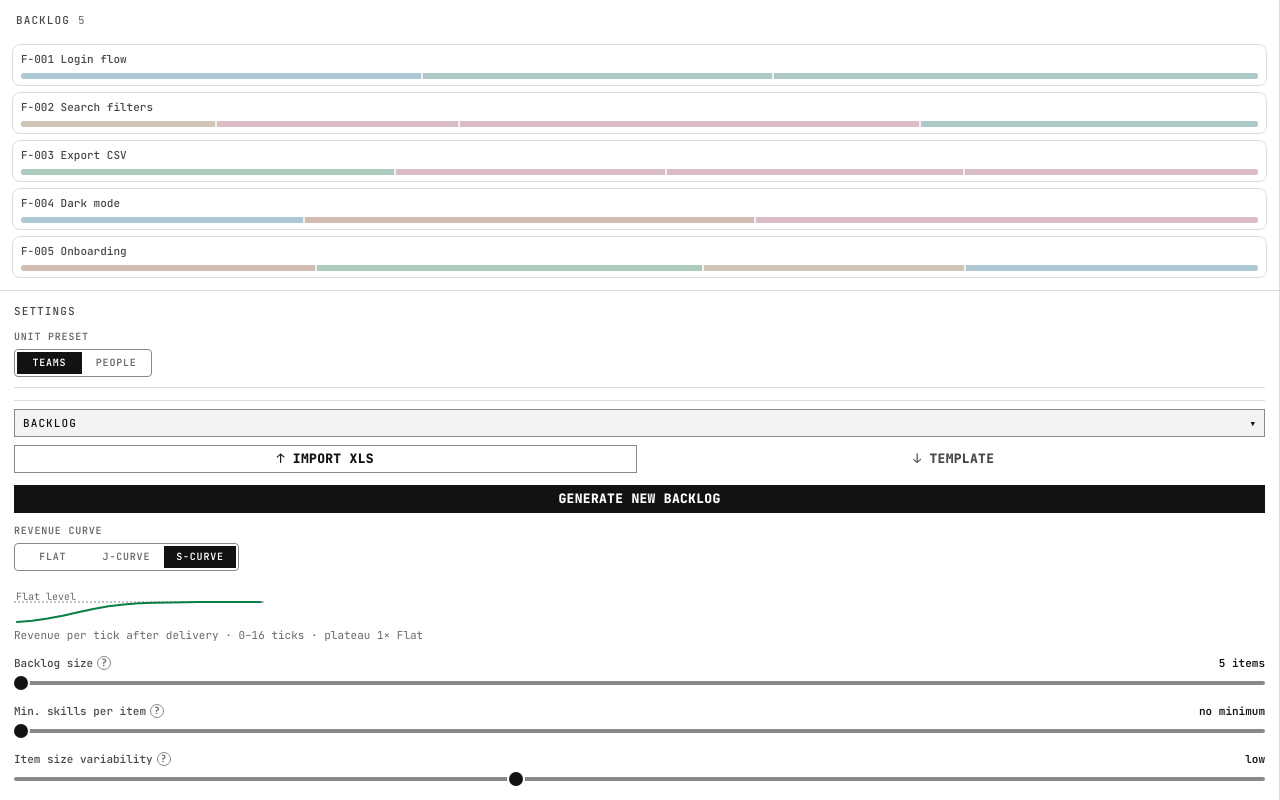
Test case: feat-017: přepínač „Revenue curve“ v BacklogSettingsPanel › hover hint zvoleného profilu „s-curve“ popisuje jeho tvar
Step 1. Hover over the button "Flat" → (53, 557), box left=17, top=546, right=89, bottom=568
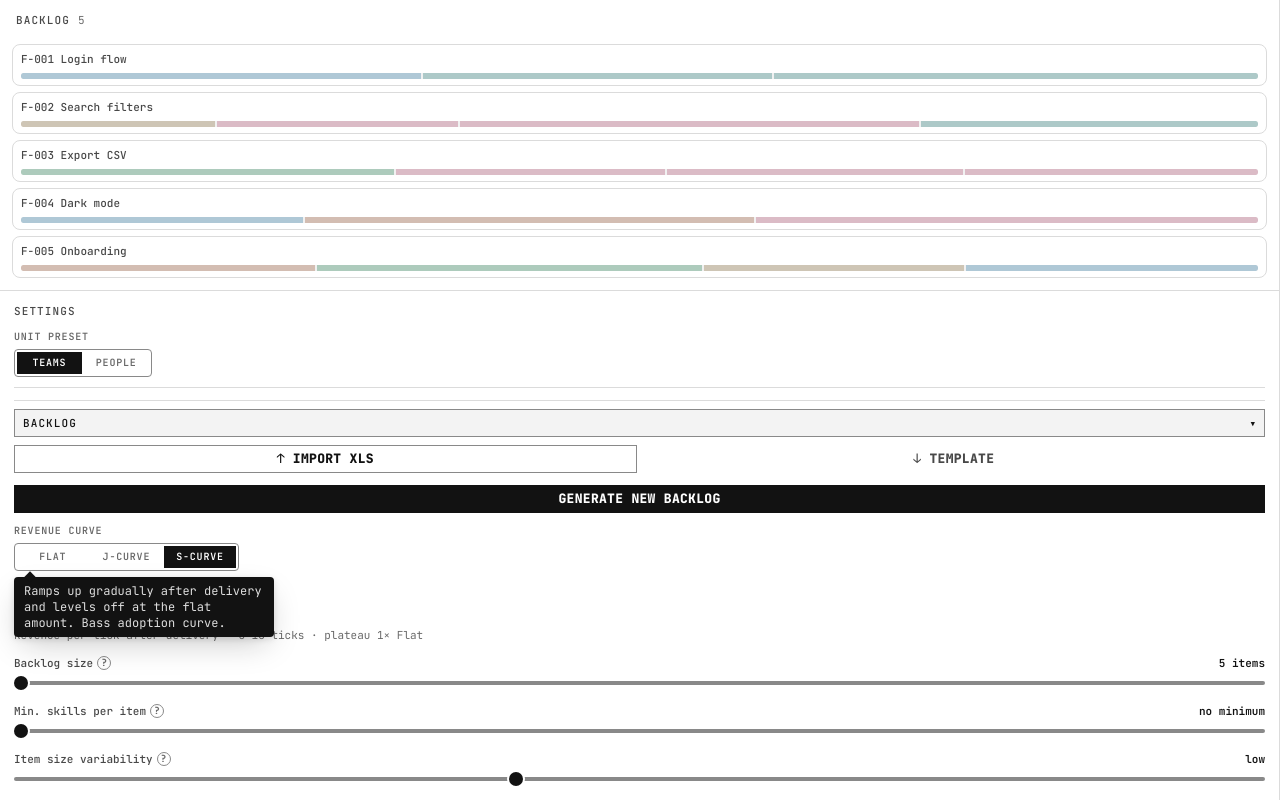
Result: the text "Ramps up gradually after delivery and levels off at the flat amount. Bass adoption curve." is shown at left=24, top=583, right=262, bottom=631
